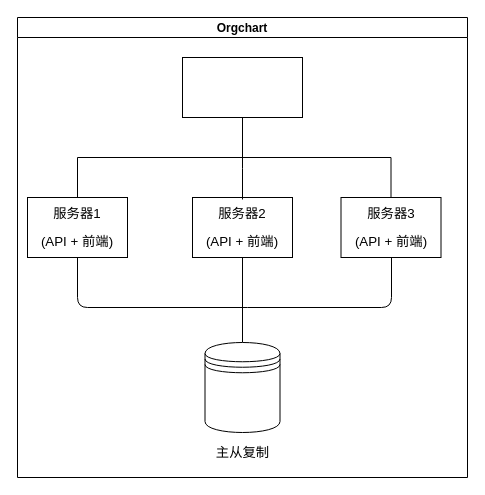
The diagram is 485 pixels wide and 495 high, and some of its shapes have lost their labels. Here are the shapes that lost their labels. From the top down, the centre of each, then its label:
At (242,87): "负载均衡器".
At (242,387): "数据库集群".
